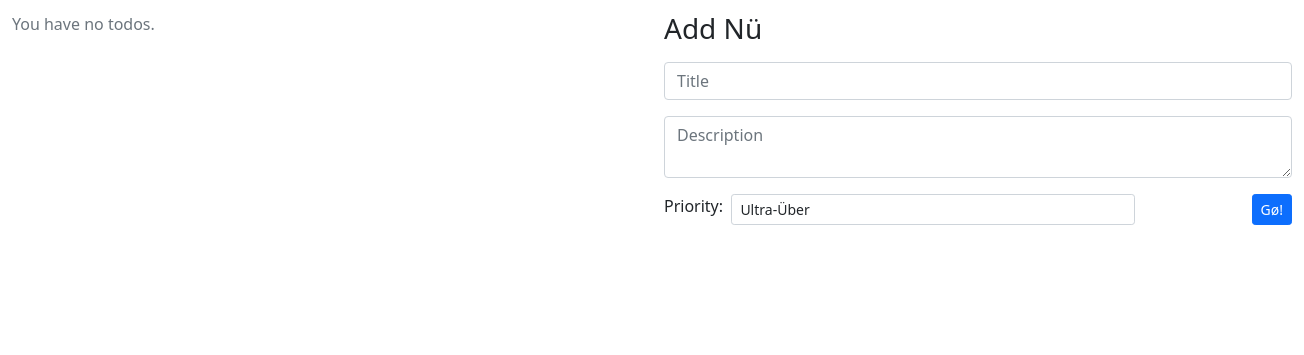
TodoApp › can add a new todo
Type "test title" into the field with id "newTodo-title" at {"x": 978, "y": 81}, box [664,62,1292,100]
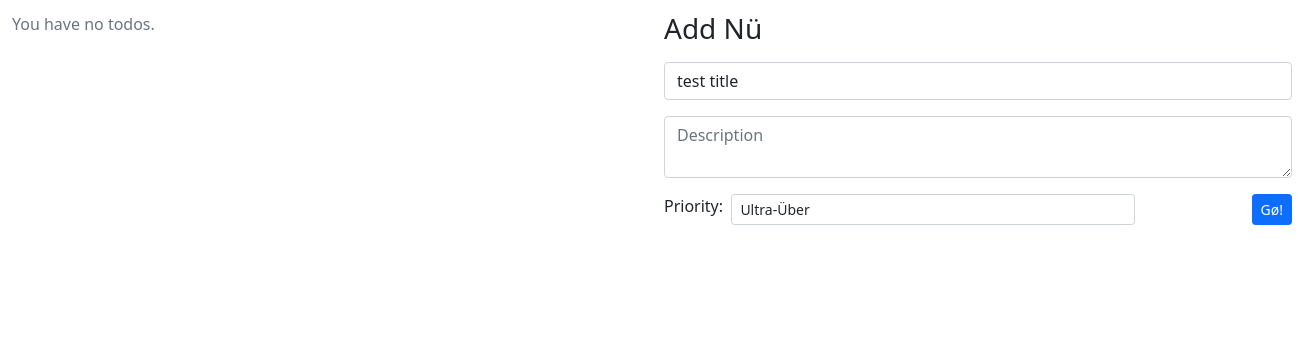
Type "test description" into the text box with id "newTodo-description" at {"x": 978, "y": 147}, box [664,116,1292,178]
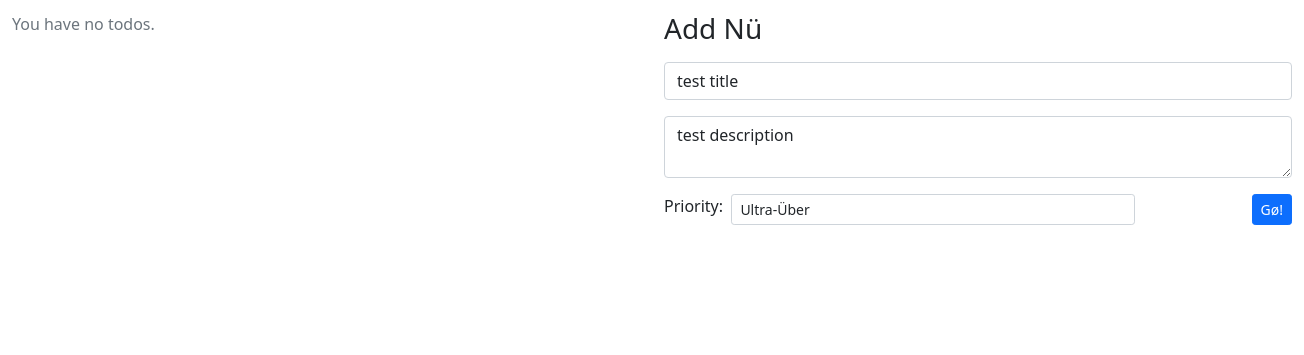
Select "Über" in the dropdown with id "newTodo-priority" at {"x": 933, "y": 209}, box [731,194,1135,225]
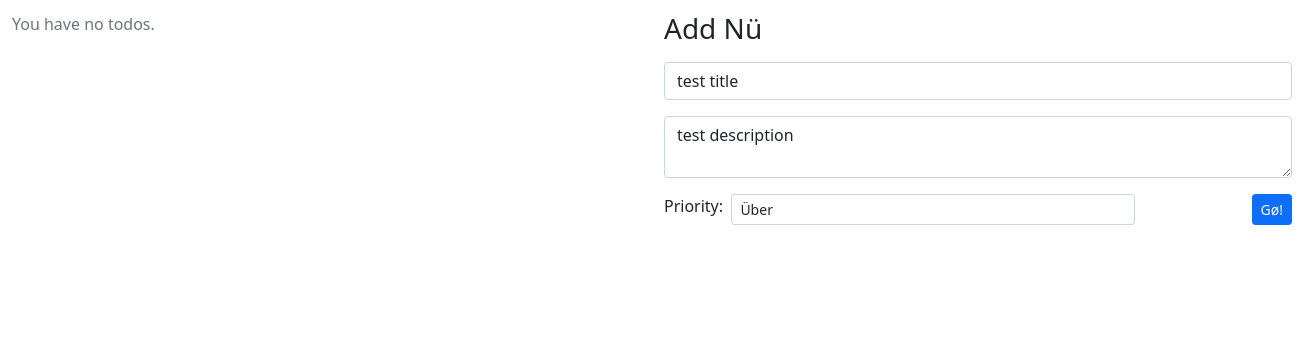
Submit the form with id "todo-form-new", box [664,62,1292,225]
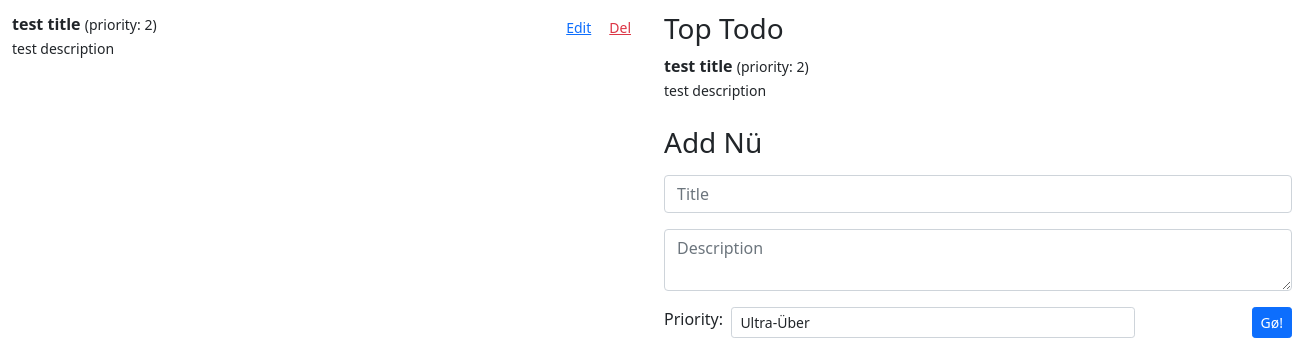
Expected: the text "test title" is shown, [12,13,81,35]
Expected: the text "test description" is shown, [12,39,114,58]
Expected: the text "2" is shown, [144,15,152,34]
